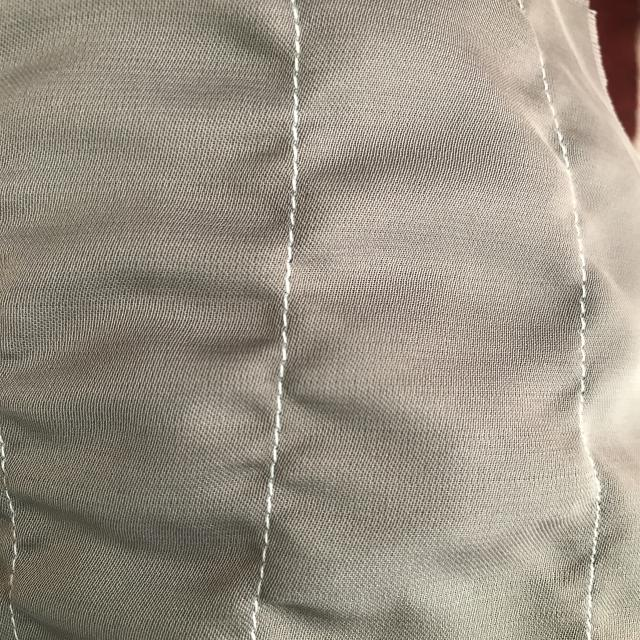good: (266, 113, 323, 255), (264, 321, 314, 426), (253, 466, 293, 563), (278, 20, 320, 89), (568, 284, 602, 349)
